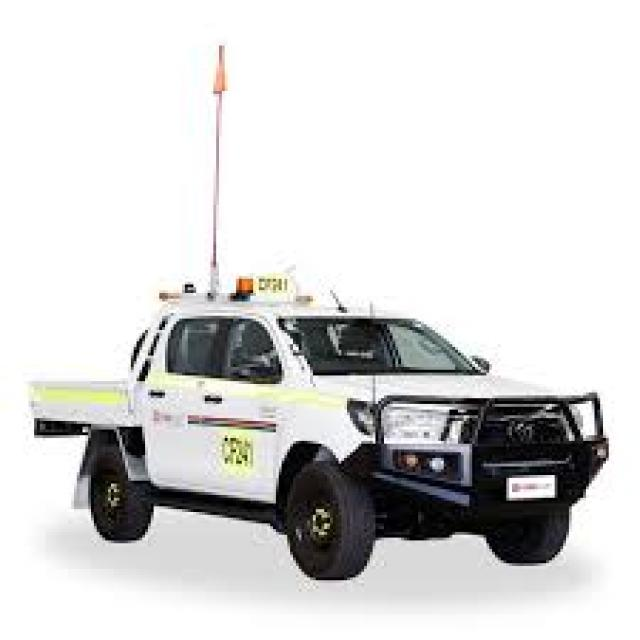light_vehicle: (17, 250, 632, 586)
